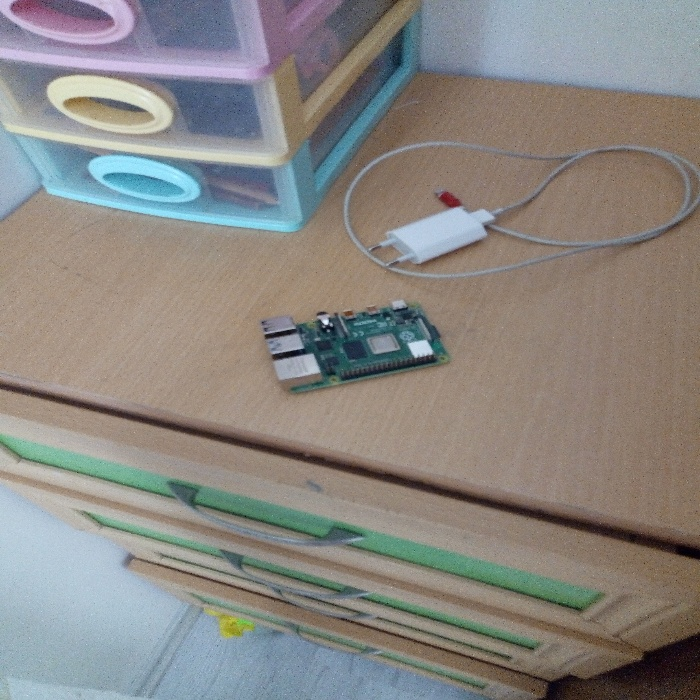raspberry: (259, 290, 446, 395)
